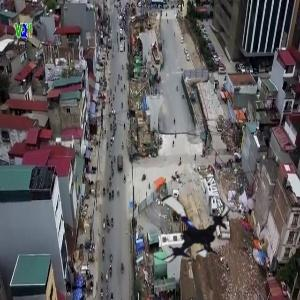drone: (143, 183, 235, 275)
